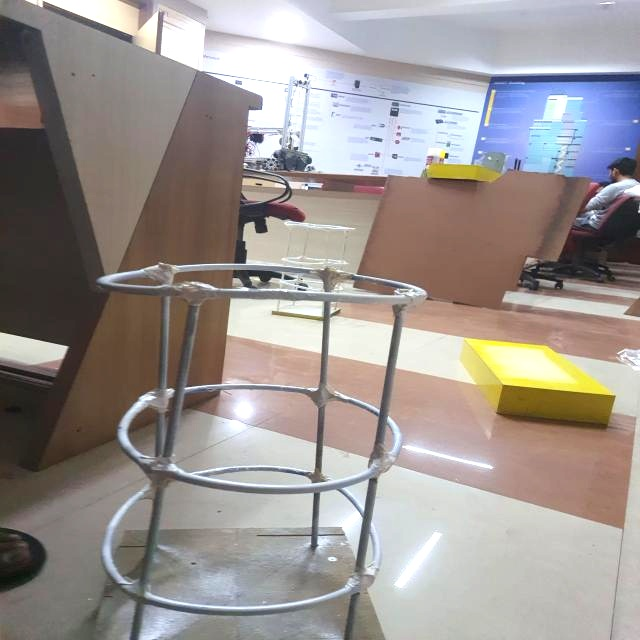silo: (102, 256, 388, 640)
